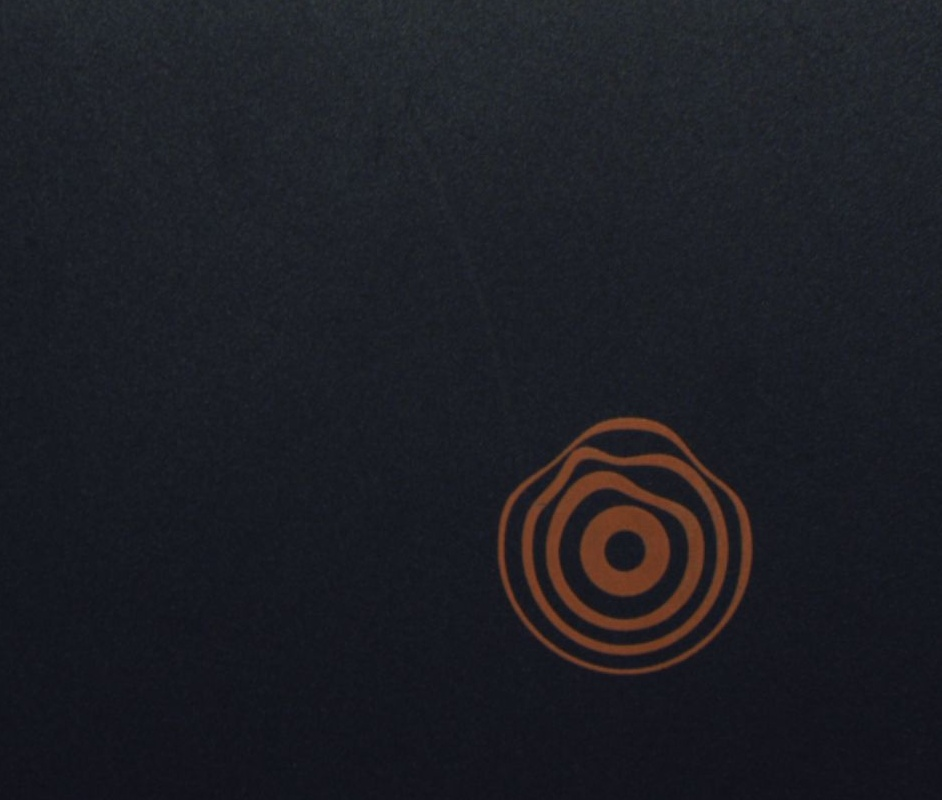BU_HG680GY: (493, 410, 756, 675)
